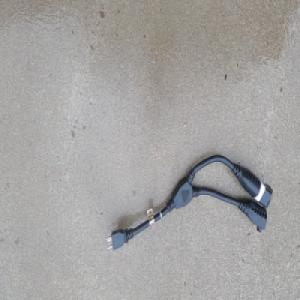Wire: (106, 152, 273, 252)
